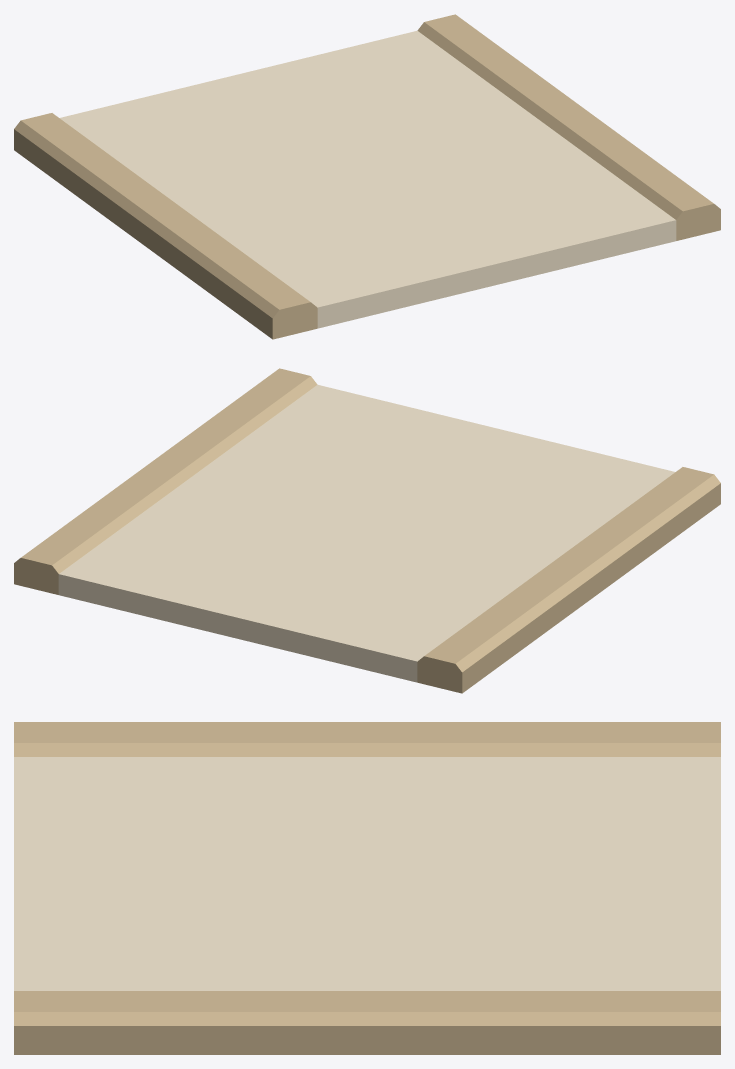
Rendered from path.glb.
The picture shows the model from 3 angles, top to bottom: view 1: azimuth 30°, elevation 25°; view 2: azimuth 150°, elevation 25°; view 3: azimuth 270°, elevation 25°; orthographic projection. The views are drawn at different scales.
Parts seen in each view (by area): view 1: path; view 2: path; view 3: path.
Boxes of the visible parts, box(x1,y1,x2,y2) form: path: box(14, 14, 720, 339); path: box(14, 368, 720, 693); path: box(14, 722, 720, 1054).
Bounding box in the file's own units: 1 × 0.06 × 1.
